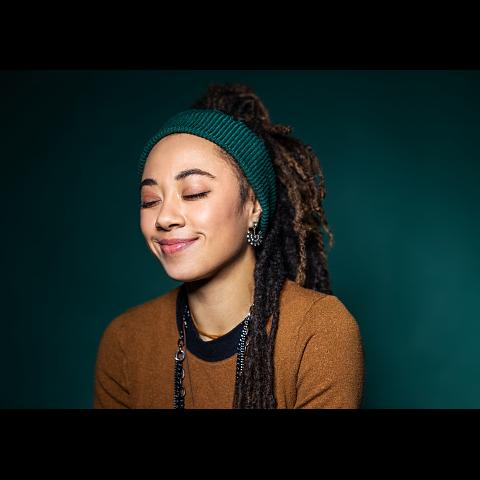closed: (134, 172, 221, 214)
